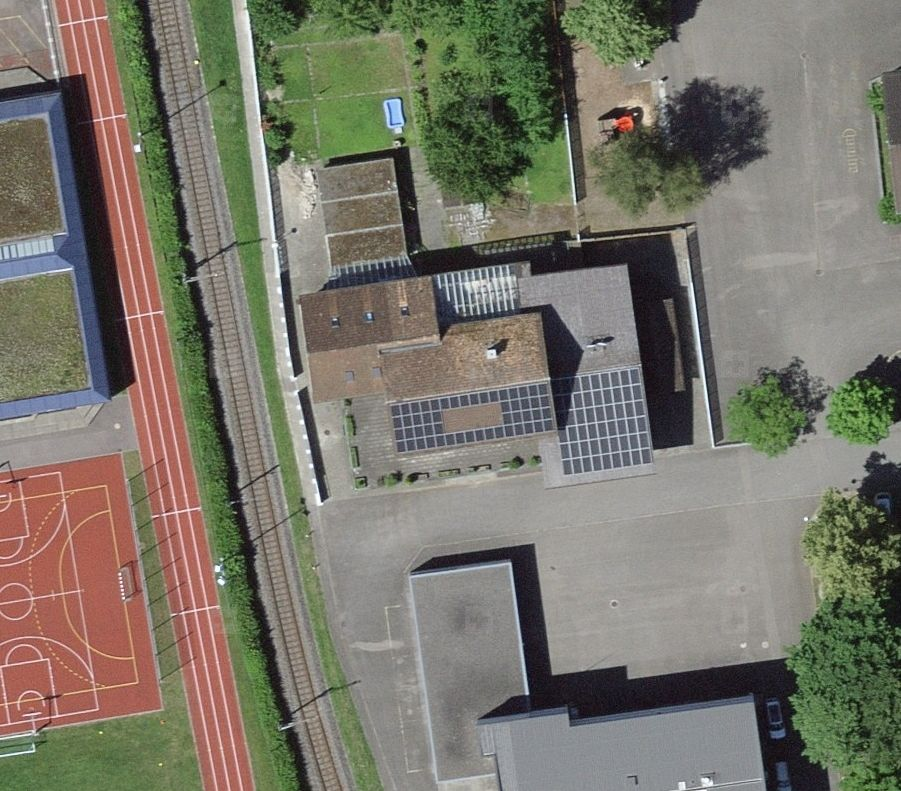solar: (389, 378, 553, 451), (553, 368, 654, 477)
